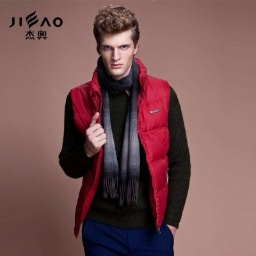face: (93, 6, 142, 78)
